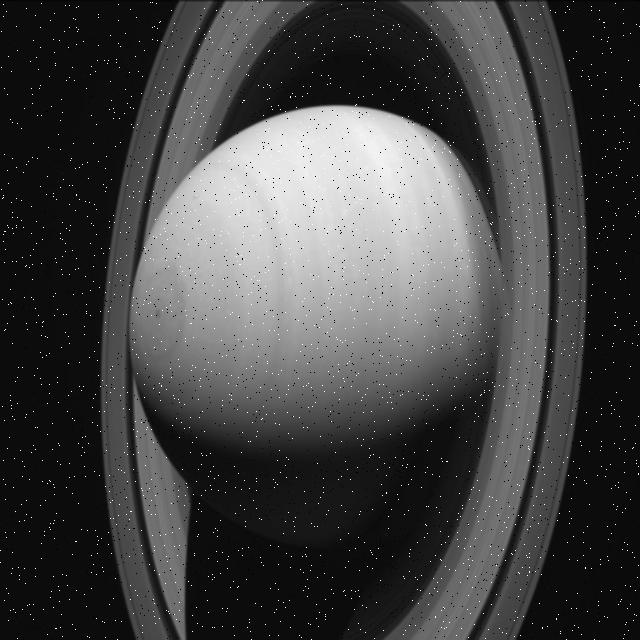Saturn: (100, 0, 590, 640)
